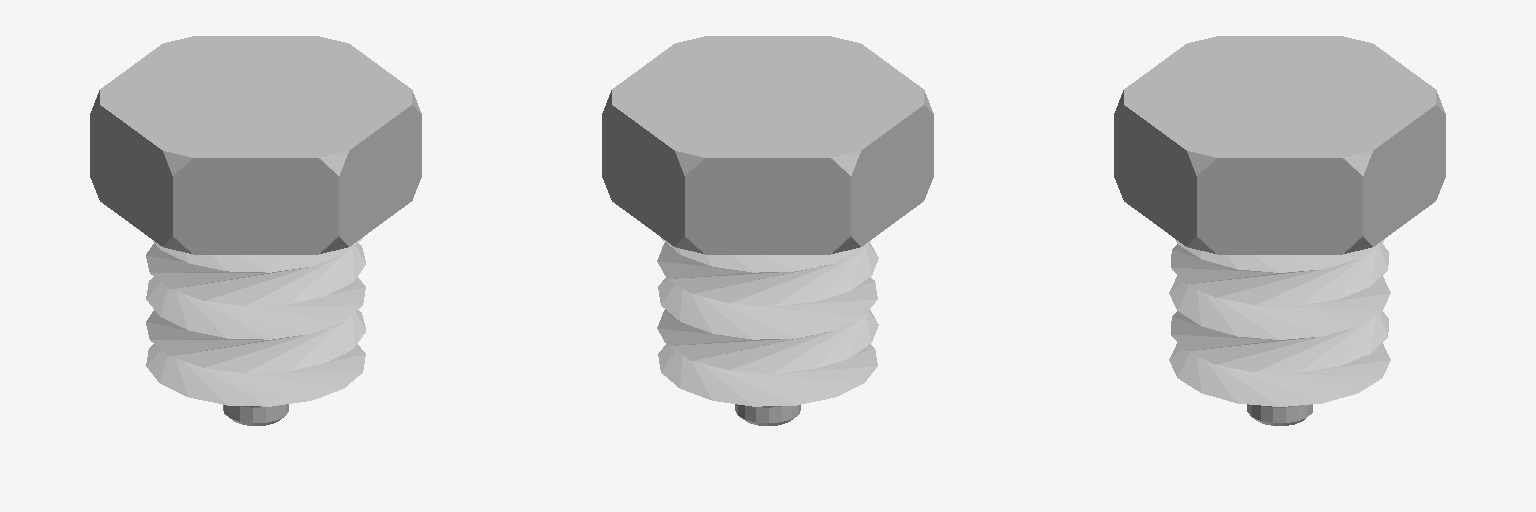
The model's file is schraube_weiter.obj.
3 views of the same model, side by side, from view 1: azimuth 30°, elevation 25°; view 2: azimuth 150°, elevation 25°; view 3: azimuth 270°, elevation 25° (orthographic).
Visible parts, largest first — view 1: Cylinder.001, Cylinder; view 2: Cylinder.001, Cylinder; view 3: Cylinder.001, Cylinder.
Boxes of the visible parts, <box> form: Cylinder.001: <box>90,36,421,254</box>; Cylinder: <box>146,238,365,425</box>; Cylinder.001: <box>602,36,933,254</box>; Cylinder: <box>657,238,878,425</box>; Cylinder.001: <box>1114,36,1445,254</box>; Cylinder: <box>1169,239,1390,425</box>.
Size of the model in its own units: 2.6 by 3.16 by 3.